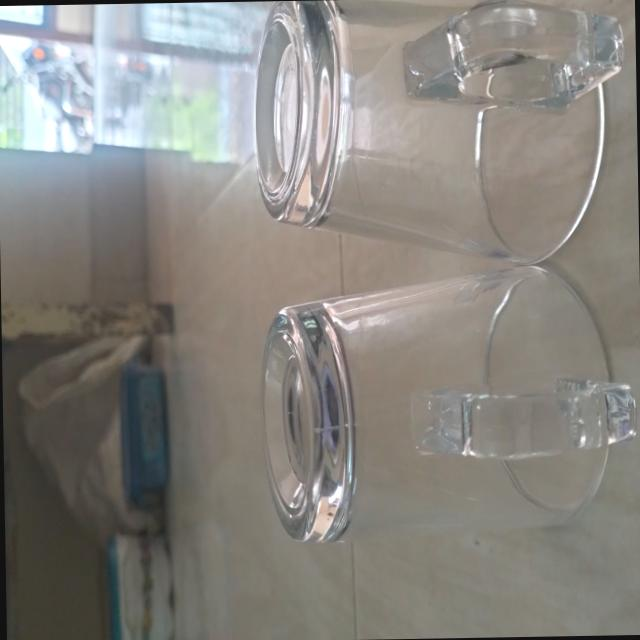glass-VX4N: (256, 260, 634, 544), (252, 0, 628, 251)
